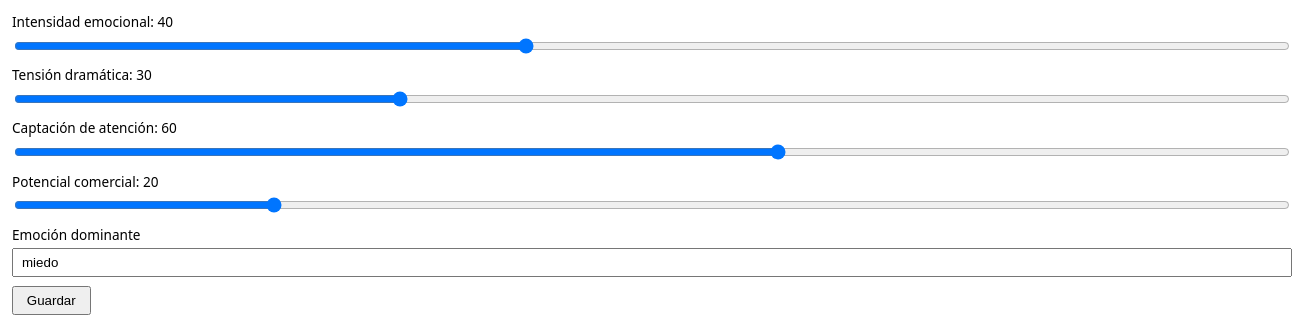
Scenario: SceneMetricEditor › disables saving an empty dominant emotion
Clear the field labelled "Emoción dominante" at (652, 263), box x1=12 y1=248 x2=1292 y2=277
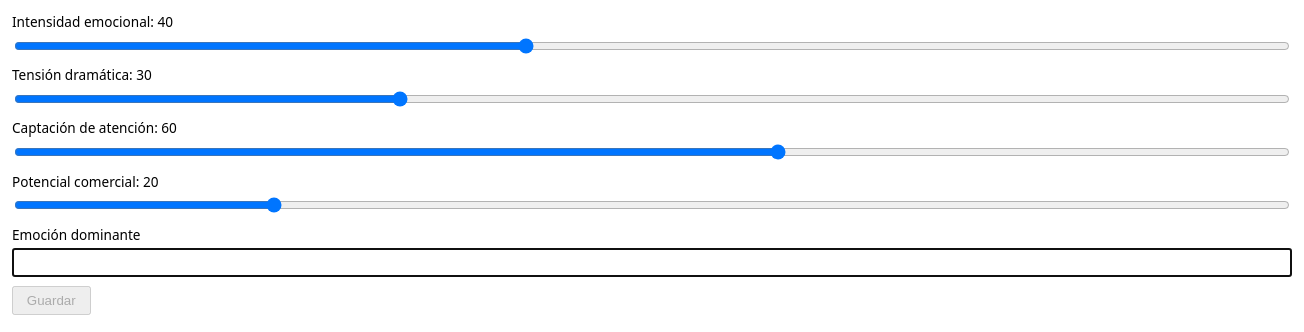
Expected: the button "Guardar" is disabled, x1=12 y1=286 x2=90 y2=315
